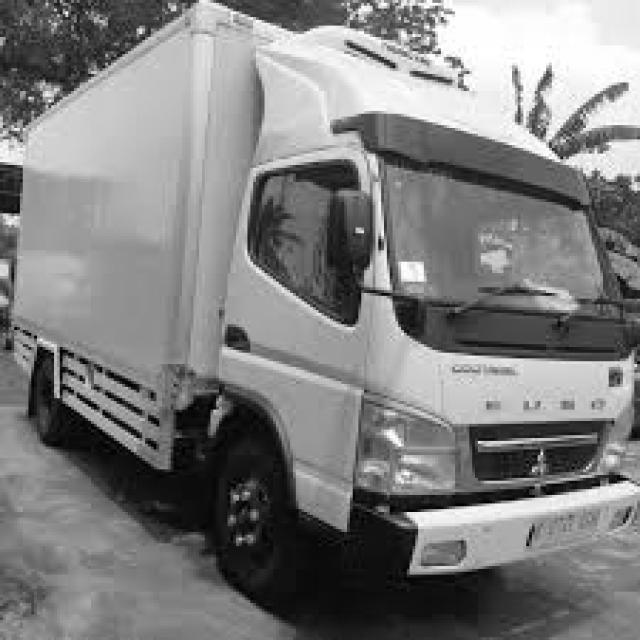truck: (204, 1, 640, 615)
